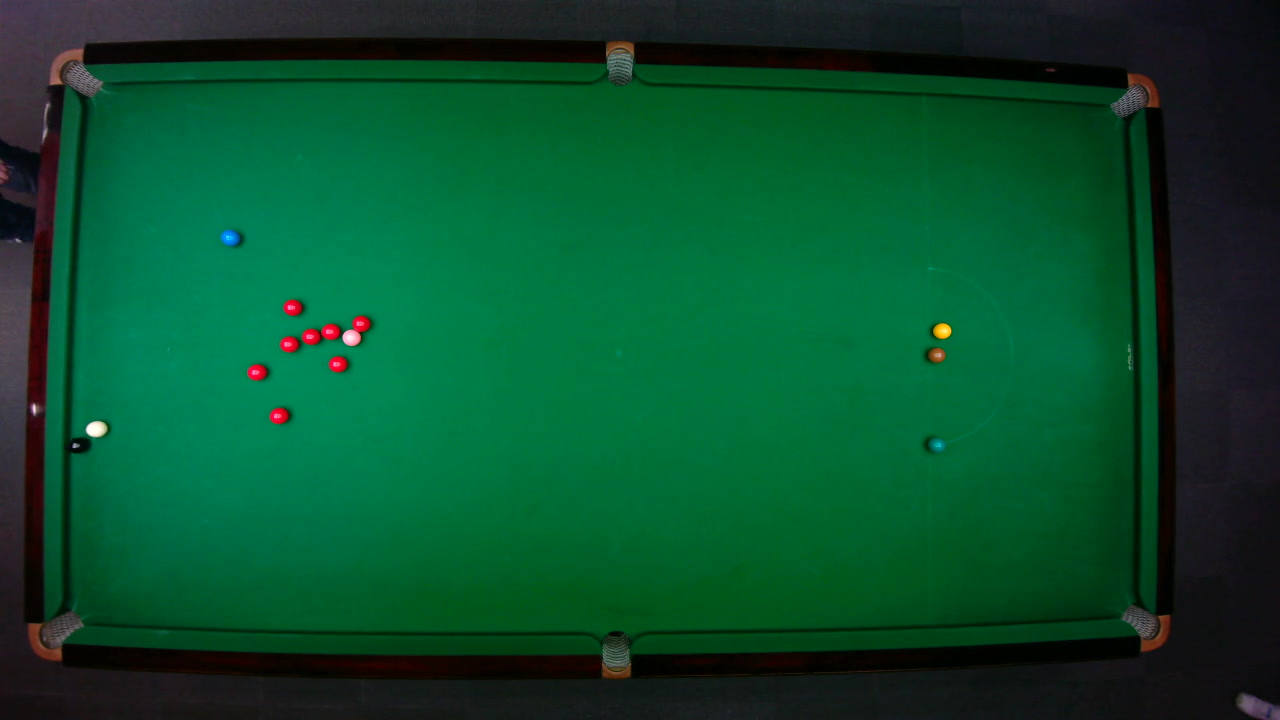bag: (25, 608, 84, 660), (47, 47, 103, 97), (1118, 602, 1170, 651), (1108, 72, 1160, 119), (600, 629, 630, 679), (605, 39, 633, 86)
black: (66, 436, 87, 453)
blue: (219, 228, 240, 246)
brown: (926, 346, 945, 363)
green: (925, 435, 945, 453)
pink: (340, 328, 362, 346)
red: (245, 362, 267, 381), (267, 406, 290, 424), (327, 354, 348, 373), (277, 334, 299, 352), (350, 314, 371, 332), (300, 327, 321, 345), (281, 298, 303, 315), (320, 322, 341, 339)
white: (84, 418, 108, 437)
yellow: (931, 321, 952, 339)
zone: (926, 265, 1013, 444)
